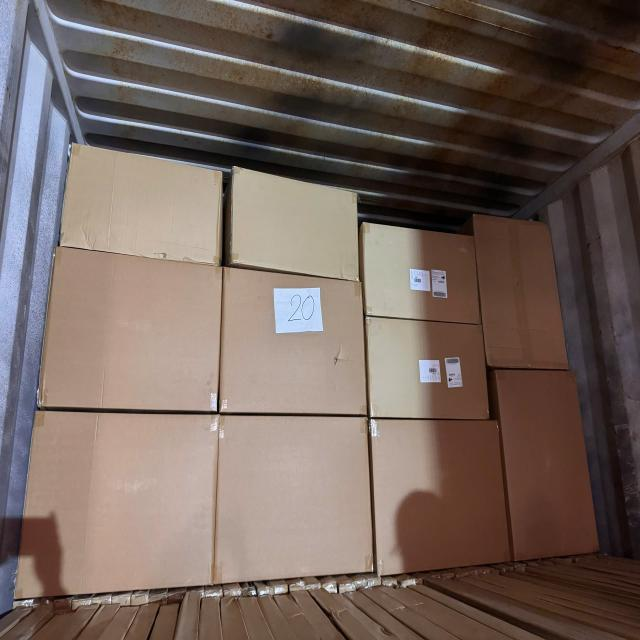Carton: (12, 408, 218, 590), (35, 246, 224, 412), (215, 416, 372, 579), (222, 268, 370, 420), (373, 419, 505, 570), (65, 148, 224, 268), (501, 366, 592, 561), (231, 171, 359, 282), (476, 216, 566, 370), (366, 316, 488, 419), (362, 227, 479, 327)
